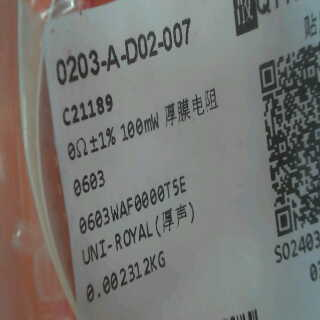0R: (63, 122, 120, 203)
